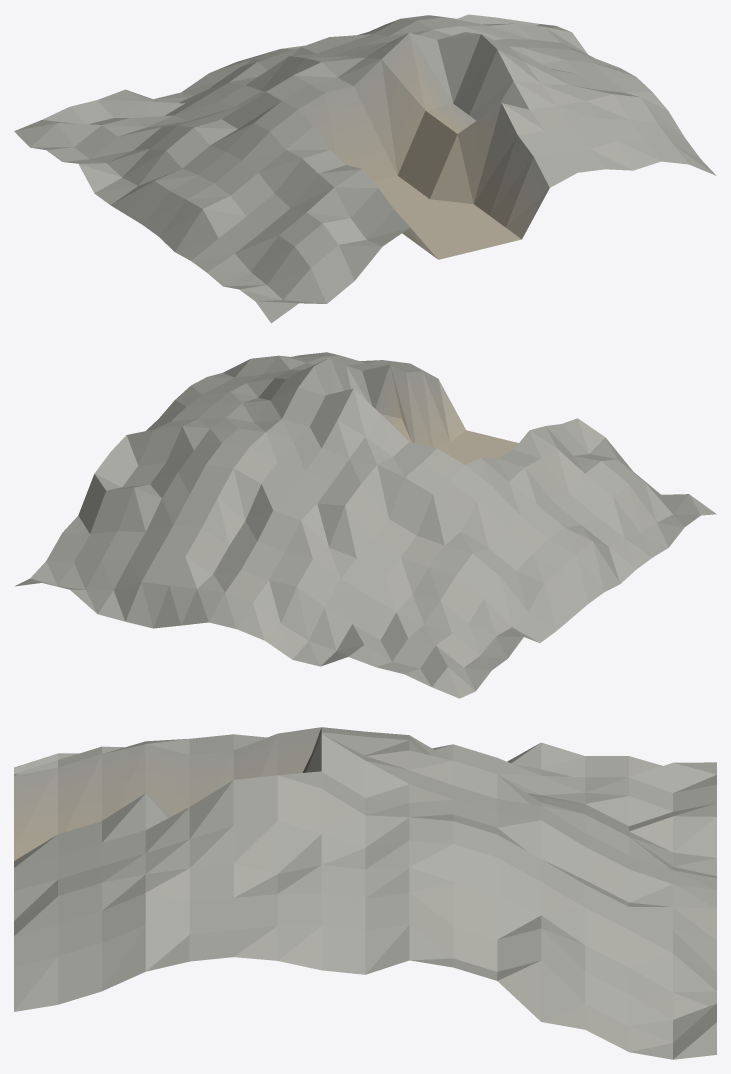
The picture shows the model from 3 angles, top to bottom: view 1: azimuth 30°, elevation 25°; view 2: azimuth 150°, elevation 25°; view 3: azimuth 270°, elevation 25°; orthographic projection. The views are drawn at different scales.
Bounding box in the file's own units: 32 × 10.14 × 32.
